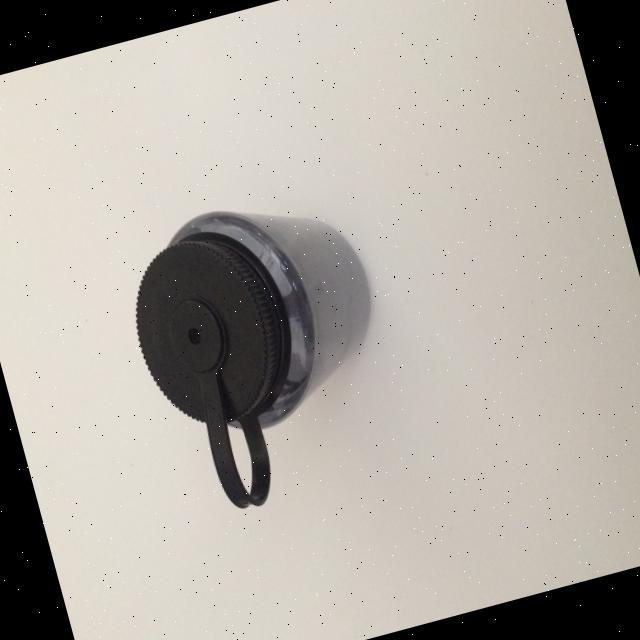plastic: (109, 174, 416, 525)
